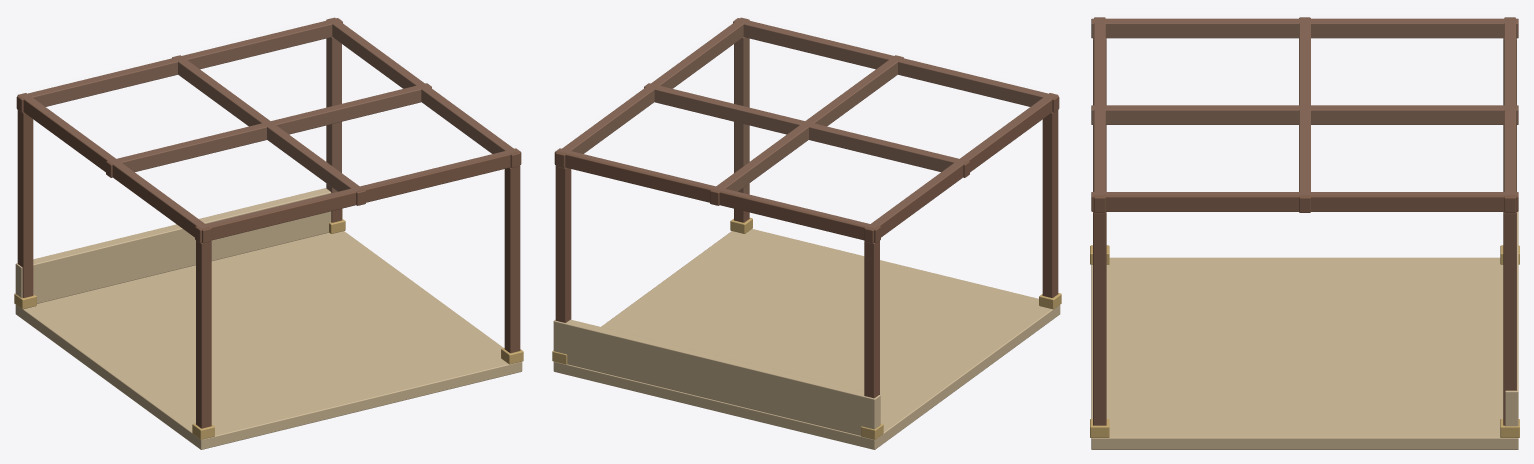
The model's file is griffin-airmail-roost-and-posthouse-covered-griffin-ro-87bfc870__30493.glb.
3 renders of one model, left to right at view 1: azimuth 30°, elevation 25°; view 2: azimuth 150°, elevation 25°; view 3: azimuth 270°, elevation 25°, orthographic. The views are drawn at different scales.
Parts seen in each view (by area): view 1: covered-griffin-roost; view 2: covered-griffin-roost; view 3: covered-griffin-roost.
Part boxes in pixels (x1,y1,x2,y2): covered-griffin-roost: (14, 17, 523, 449); covered-griffin-roost: (552, 17, 1061, 449); covered-griffin-roost: (1090, 17, 1519, 449).
Size of the model in its own units: 5.03 by 3.3 by 5.03.
